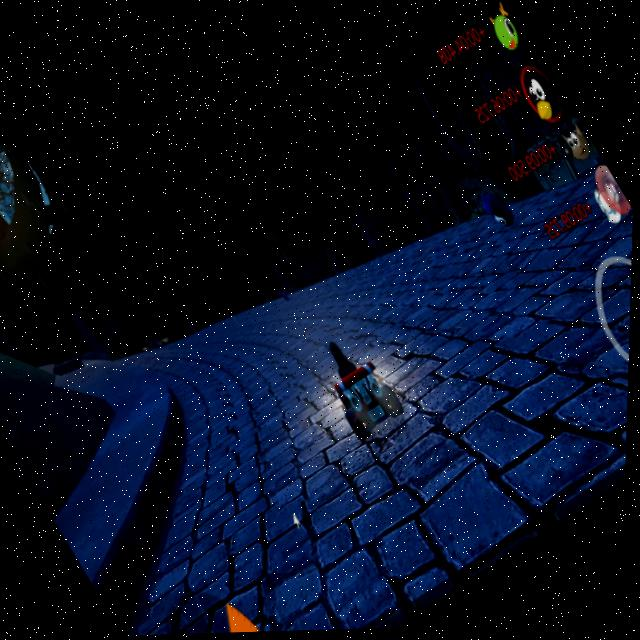nitro: (465, 177, 521, 241)
player_kart: (308, 323, 423, 455)
track: (160, 277, 348, 435)
